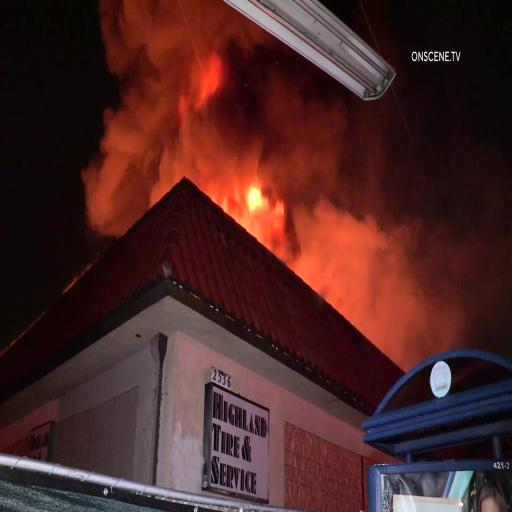fire: (239, 177, 264, 219)
smoke: (90, 7, 187, 195), (319, 205, 404, 295)
